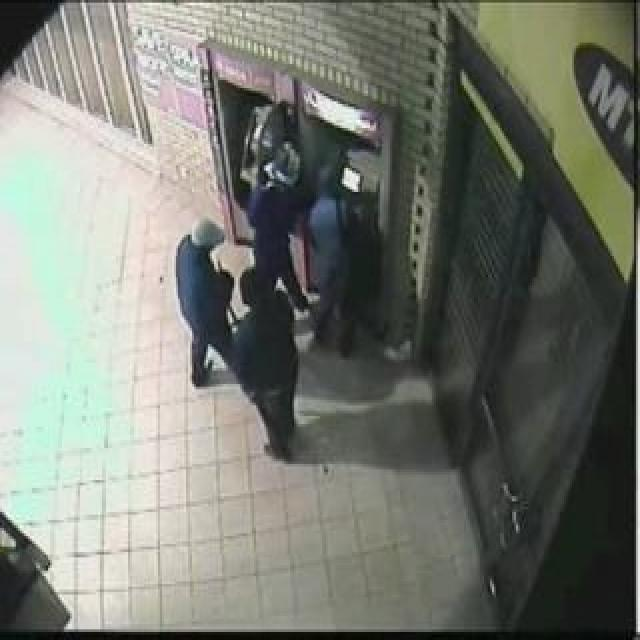thief: (154, 175, 372, 392)
